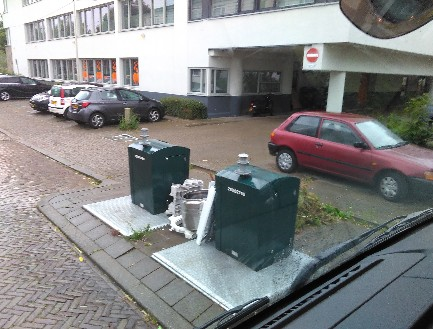Container: (227, 162, 282, 261), (134, 133, 177, 216)
Rest: (179, 184, 214, 248)
Voertuig: (287, 107, 427, 206), (68, 84, 163, 123), (28, 81, 92, 120), (6, 74, 52, 105)
